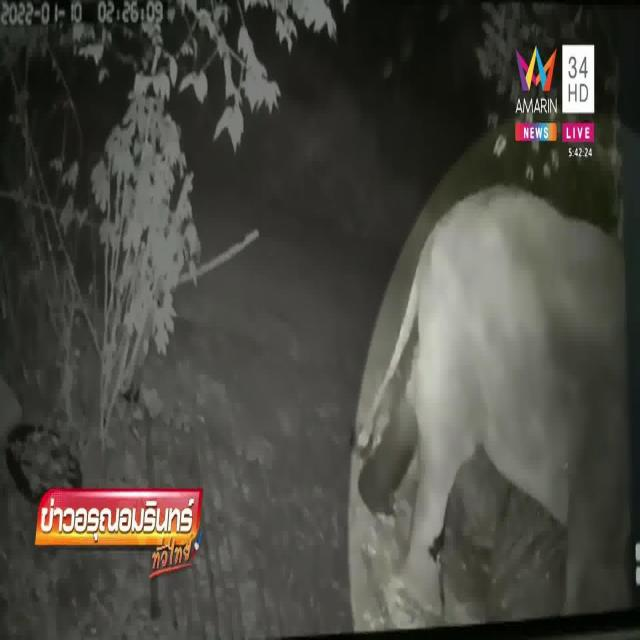Elephant: (389, 185, 630, 543)
